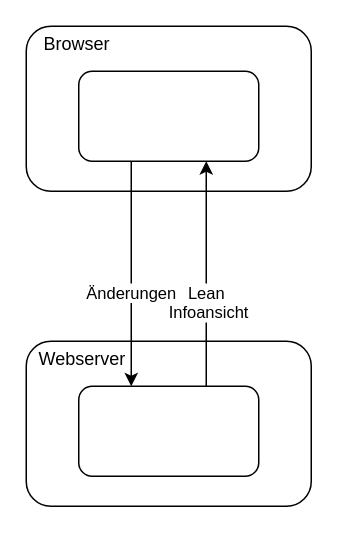
This 338x533 diagram has some shape labels left out. The shapes that lost their labels are listed below. From the top down, each one's centre as x and y in pixels, then its label:
the point at 168,115: Monaco Editor (LSP Client)
the point at 168,430: Lean Language Server
